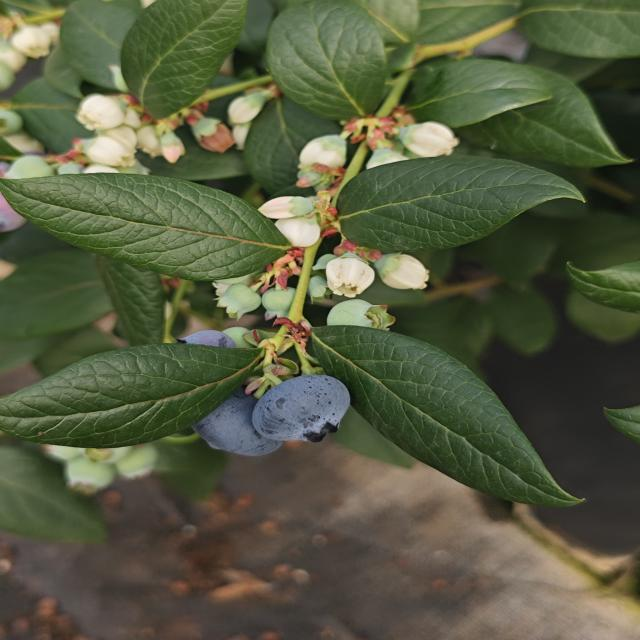ripe: (249, 372, 353, 446), (198, 407, 262, 456), (165, 328, 243, 358)
